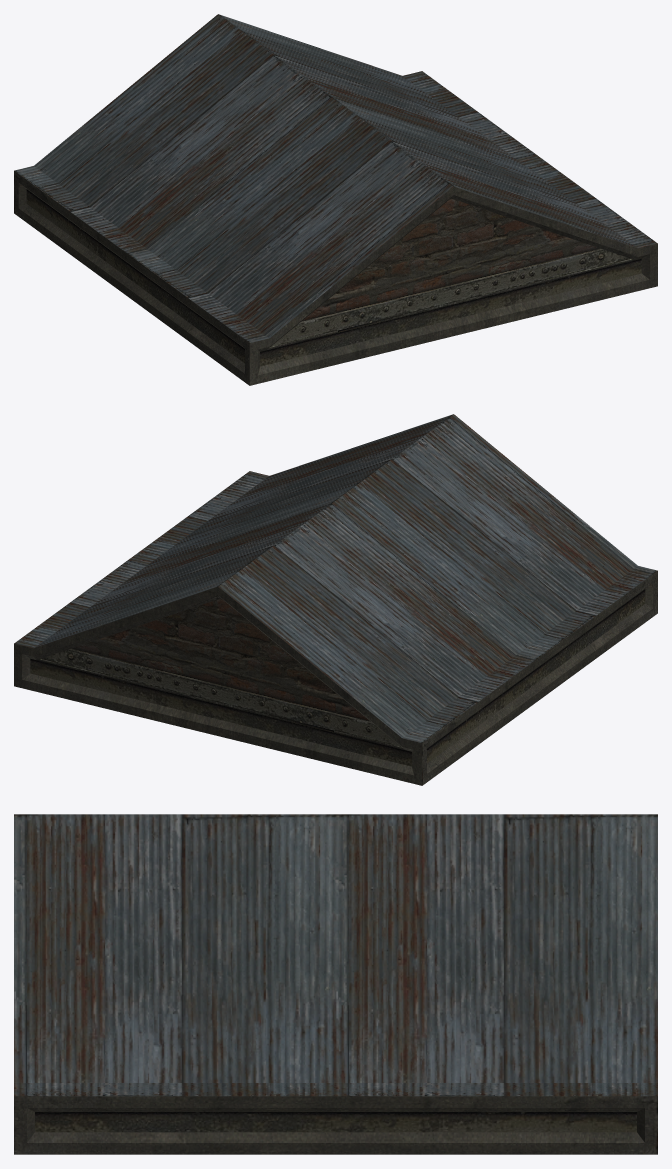
The model's file is roof_bx_2.obj.
3 views of the same model, one above another, from view 1: azimuth 30°, elevation 25°; view 2: azimuth 150°, elevation 25°; view 3: azimuth 270°, elevation 25° (orthographic). The views are drawn at different scales.
Parts seen in each view (by area): view 1: roof_bx_2; view 2: roof_bx_2; view 3: roof_bx_2.
Boxes of the visible parts, <box> form: roof_bx_2: <box>14,14,657,385</box>; roof_bx_2: <box>14,414,657,785</box>; roof_bx_2: <box>14,814,657,1154</box>.
Size of the model in its own units: 4 by 1.4 by 4.
